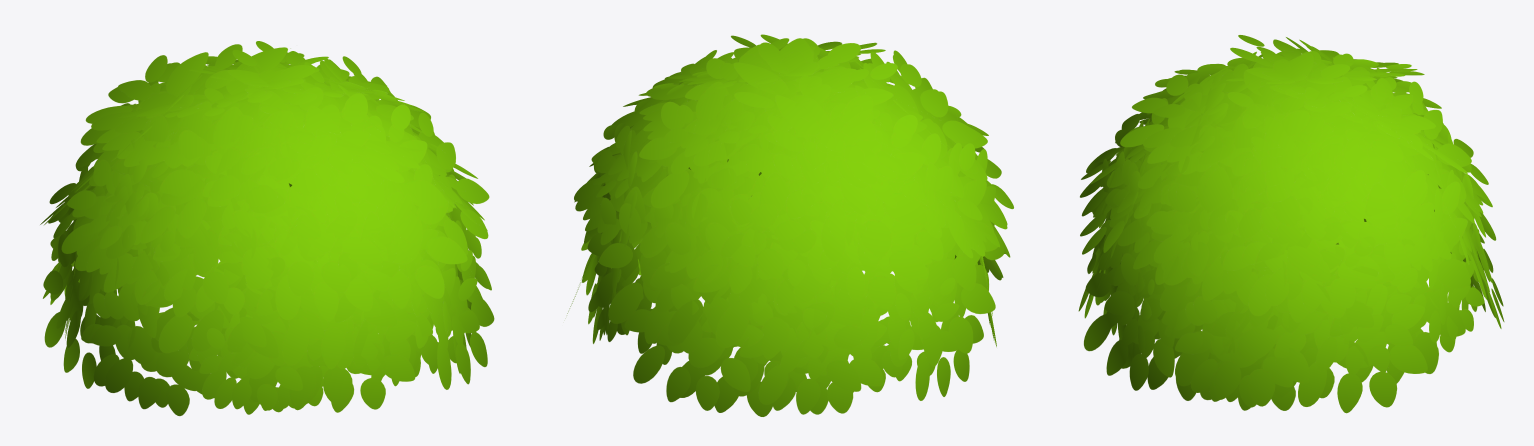
Rendered from Bush.glb.
3 views of the same model, side by side, from view 1: azimuth 30°, elevation 25°; view 2: azimuth 150°, elevation 25°; view 3: azimuth 270°, elevation 25° (orthographic). The views are drawn at different scales.
Visible parts, largest first — view 1: Bush; view 2: Bush; view 3: Bush.
Boxes of the visible parts, <box> form: Bush: <box>40,41,494,416</box>; Bush: <box>567,34,1013,416</box>; Bush: <box>1078,35,1504,413</box>.
Bounding box in the file's own units: 1.09 × 0.6916 × 1.05.
Materials: 1 (1 with a texture image).
